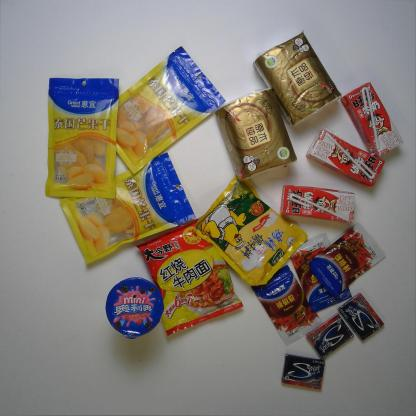Dessert: (105, 276, 164, 340)
Dried Fruit: (57, 150, 196, 267), (116, 45, 228, 176), (44, 77, 120, 200)
Gum: (337, 292, 385, 344), (305, 312, 356, 360), (280, 352, 326, 392)
Instant Noodles: (134, 215, 245, 338)
Milk: (340, 81, 405, 158), (305, 128, 386, 189), (280, 184, 356, 224)
Seasoner: (192, 174, 309, 288), (249, 264, 324, 350), (309, 219, 386, 300), (289, 231, 353, 314)
Tissue: (252, 28, 343, 129), (214, 86, 299, 184)
